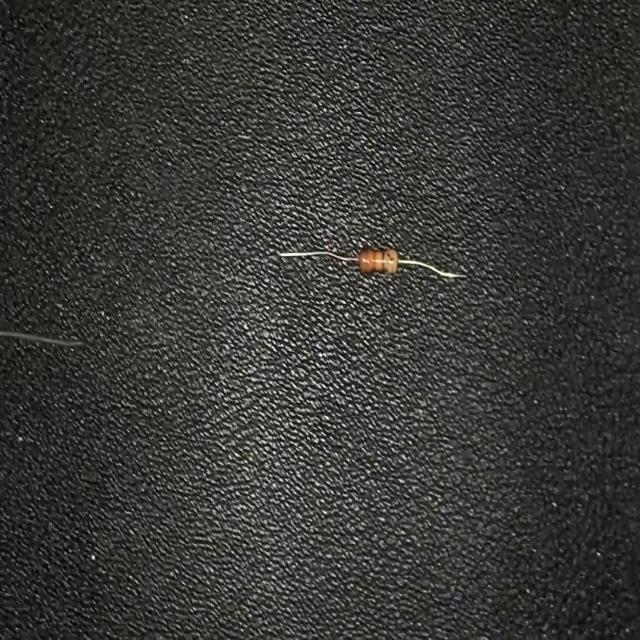burnt: (357, 245, 373, 275)
faded: (386, 248, 396, 274)
resistor: (278, 243, 468, 287)
